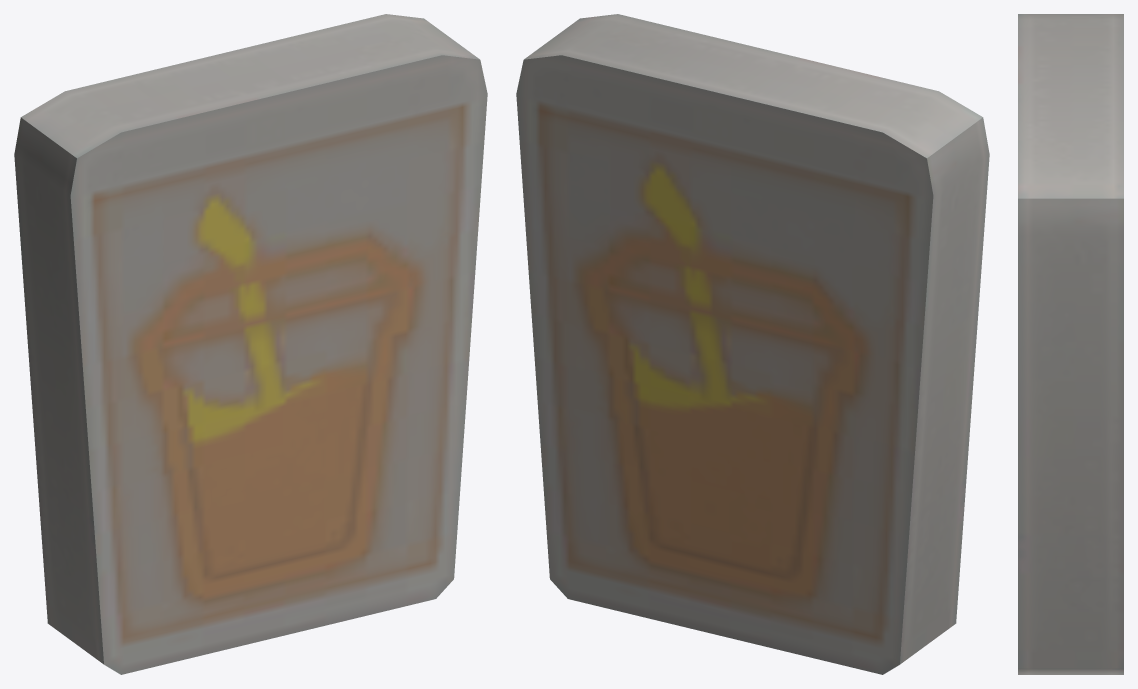
Rendered from pref_sm_city_billboard05_lv3.fbx.
3 renders of one model, left to right at view 1: azimuth 30°, elevation 25°; view 2: azimuth 150°, elevation 25°; view 3: azimuth 270°, elevation 25°, orthographic. The views are drawn at different scales.
Visible parts, largest first — view 1: pref_sm_city_billboard05_lv3; view 2: pref_sm_city_billboard05_lv3; view 3: pref_sm_city_billboard05_lv3.
Part boxes in pixels (x1,y1,x2,y2): pref_sm_city_billboard05_lv3: (14,14,487,674); pref_sm_city_billboard05_lv3: (516,14,989,674); pref_sm_city_billboard05_lv3: (1018,14,1123,674).
Bounding box in the file's own units: 1.62 × 2.01 × 0.3778.
